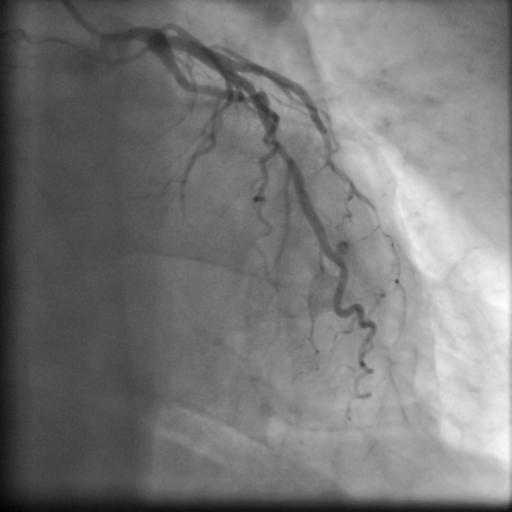Stenosis: (235, 88, 264, 104)
